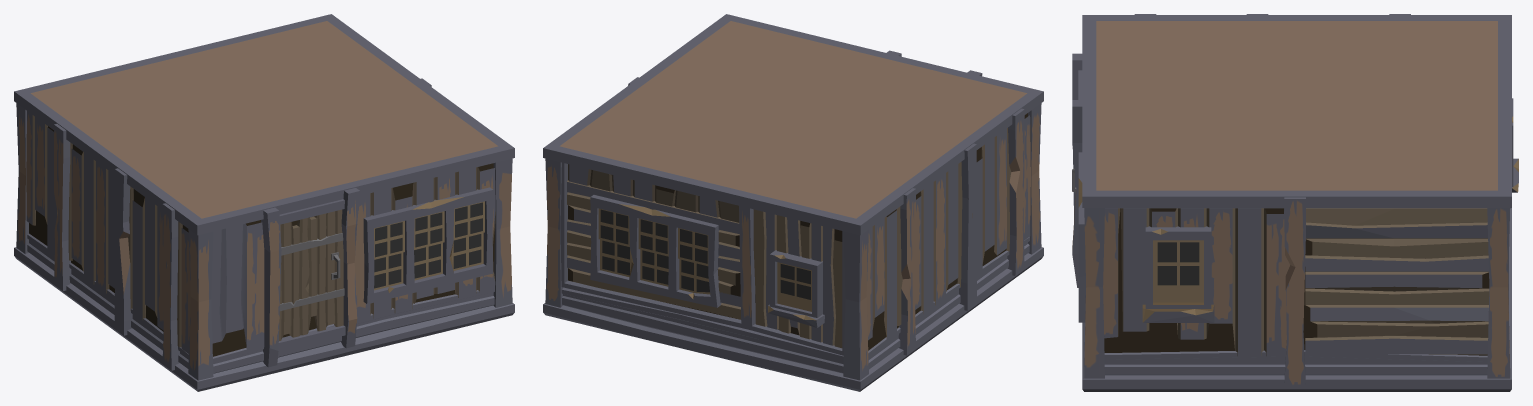
File: SM_Bld_Shanty_Room_03.fbx
The picture shows the model from 3 angles, left to right: view 1: azimuth 30°, elevation 25°; view 2: azimuth 150°, elevation 25°; view 3: azimuth 270°, elevation 25°; orthographic projection. The views are drawn at different scales.
Parts seen in each view (by area): view 1: SM_Bld_Shanty_Room_03; view 2: SM_Bld_Shanty_Room_03; view 3: SM_Bld_Shanty_Room_03.
Boxes of the visible parts, x1=… form: SM_Bld_Shanty_Room_03: x1=14, y1=14, x2=514, y2=391; SM_Bld_Shanty_Room_03: x1=543, y1=14, x2=1043, y2=391; SM_Bld_Shanty_Room_03: x1=1072, y1=14, x2=1518, y2=391.
Size of the model in its own units: 5.19 by 2.52 by 5.2.
